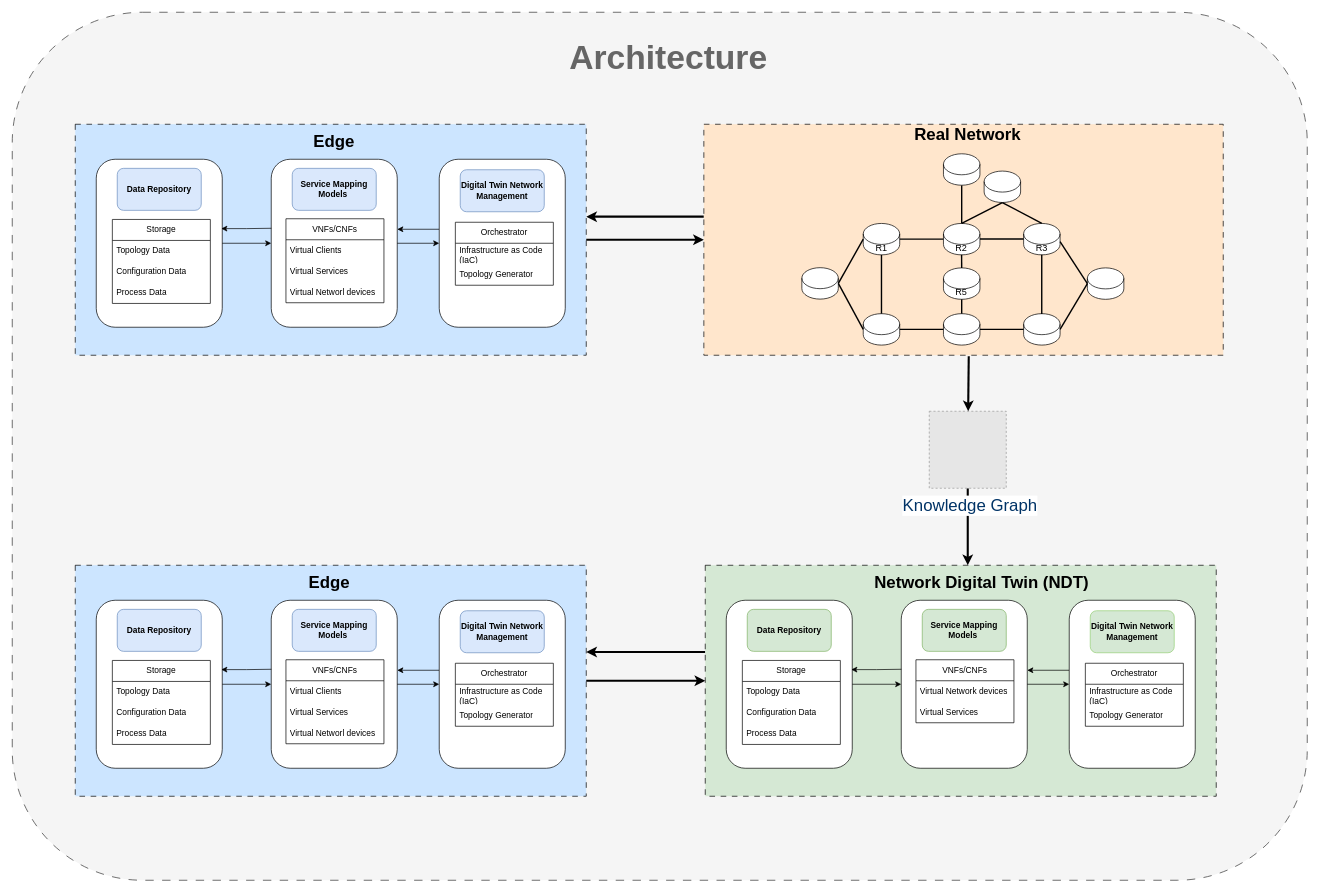
Image size: 1320x893. Some labels were removed from this diagram. Grey dashed boxes stand in for pictures. Here are the shapes that lost their labels. From the top down, the centre of each, then its label:
point (961, 169): gateway
point (1002, 186): R12
point (819, 283): R11
point (1105, 283): R13
point (881, 329): R4
point (961, 329): R6
point (1041, 329): R7
